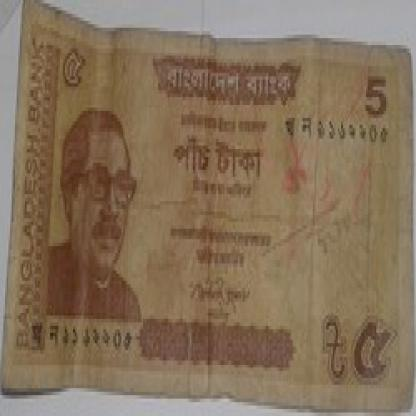Five Taka: (353, 301, 401, 412), (364, 52, 391, 121), (58, 42, 83, 108)
